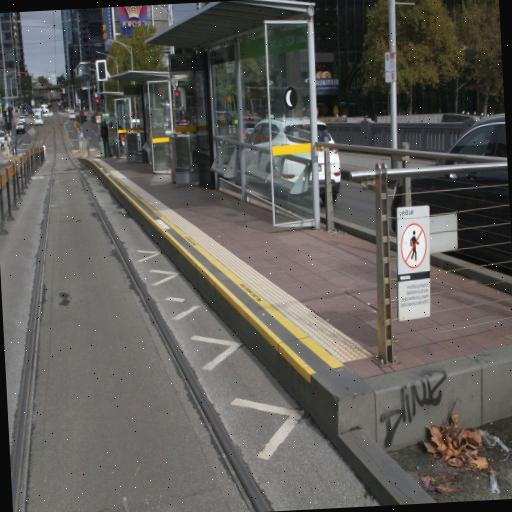platform_edge: (85, 152, 396, 407)
